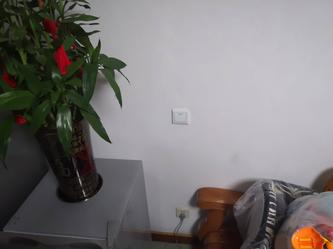switch: (174, 110, 193, 123)
